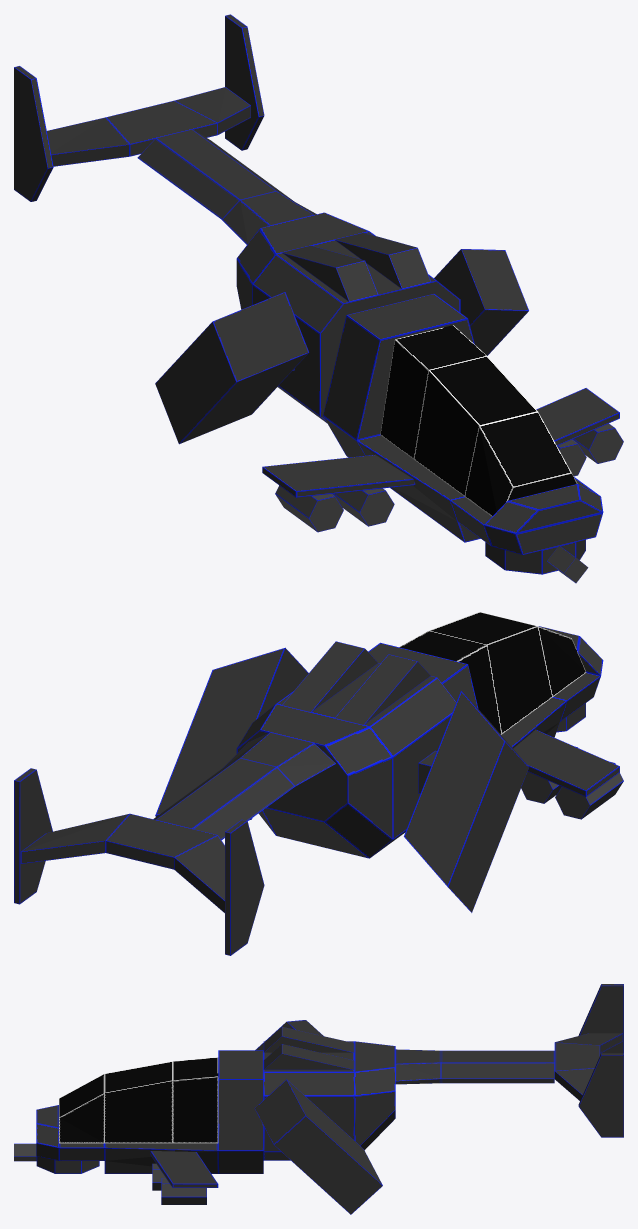
The model's file is JetCopter1V3Exported.obj.
3 views of the same model, one above another, from view 1: azimuth 30°, elevation 25°; view 2: azimuth 150°, elevation 25°; view 3: azimuth 270°, elevation 25° (orthographic). The views are drawn at different scales.
Parts seen in each view (by area): view 1: Cube2, Cube3, Cube11, Cube7_copy28, Cylinder14, Cube15, Cube7_copy9, Cube18_copy20, Cube16, Cube16_copy32, Cube25_copy31, Cube25_copy26 (+6 smaller); view 2: Cube11, Cube7_copy28, Cube2, Cube7_copy9, Cylinder14, Cube15, Cube3, Cube16, Cube18_copy20, Cube16_copy32, Cube25_copy31, Cube25_copy26 (+2 smaller); view 3: Cube2, Cube3, Cube7_copy9, Cube11, Cylinder14, Cube16_copy32, Cube15, Cube16, Cube18_copy27, Cube25_copy26, Cube25_copy31, Cylinder21_copy22 (+3 smaller).
Boxes of the visible parts, x1,y1,x2,y2 form: Cube2: [380, 325, 577, 516]; Cube3: [323, 294, 603, 554]; Cube11: [236, 212, 460, 422]; Cube7_copy28: [155, 292, 308, 444]; Cylinder14: [137, 129, 316, 244]; Cube15: [47, 87, 250, 166]; Cube7_copy9: [434, 249, 528, 355]; Cube18_copy20: [262, 454, 415, 497]; Cube16: [14, 66, 53, 201]; Cube16_copy32: [225, 14, 264, 150]; Cube25_copy31: [282, 245, 378, 301]; Cube25_copy26: [335, 232, 430, 289]; Cube11: [236, 663, 456, 858]; Cube7_copy28: [404, 691, 528, 912]; Cube2: [399, 612, 586, 734]; Cube7_copy9: [155, 647, 308, 820]; Cylinder14: [153, 732, 335, 840]; Cube15: [20, 813, 224, 912]; Cube3: [368, 626, 603, 748]; Cube16: [225, 819, 264, 955]; Cube18_copy20: [513, 729, 619, 796]; Cube16_copy32: [14, 768, 52, 904]; Cube25_copy31: [335, 654, 430, 725]; Cube25_copy26: [282, 641, 378, 712]; Cube2: [59, 1057, 218, 1143]; Cube3: [36, 1050, 263, 1173]; Cube7_copy9: [254, 1079, 382, 1214]; Cube11: [263, 1041, 395, 1160]; Cylinder14: [395, 1049, 554, 1084]; Cube16_copy32: [578, 1053, 623, 1137]; Cube15: [554, 1033, 622, 1100]; Cube16: [578, 984, 623, 1055]; Cube18_copy27: [150, 1151, 218, 1187]; Cube25_copy26: [263, 1044, 354, 1069]; Cube25_copy31: [263, 1027, 354, 1052]; Cylinder21_copy22: [161, 1178, 206, 1204].
Size of the model in its own units: 5.53 by 3.58 by 13.42.
Materials: 13 (13 with a texture image).
